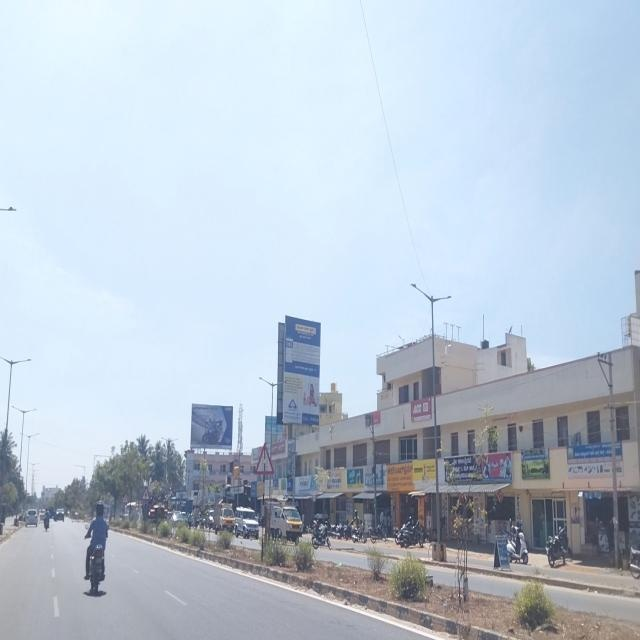bien_nguy_hiem: (255, 442, 274, 475), (141, 486, 150, 500)
